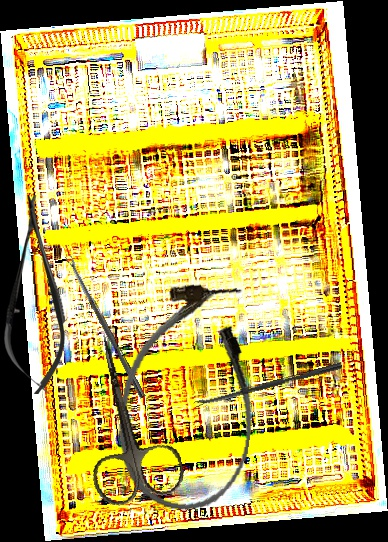Cannula: (108, 274, 271, 519)
Iris Scissors: (62, 324, 188, 510)
Micro Scissor: (3, 195, 67, 394)
Surgical Spoon: (65, 254, 147, 399), (193, 361, 343, 408)
